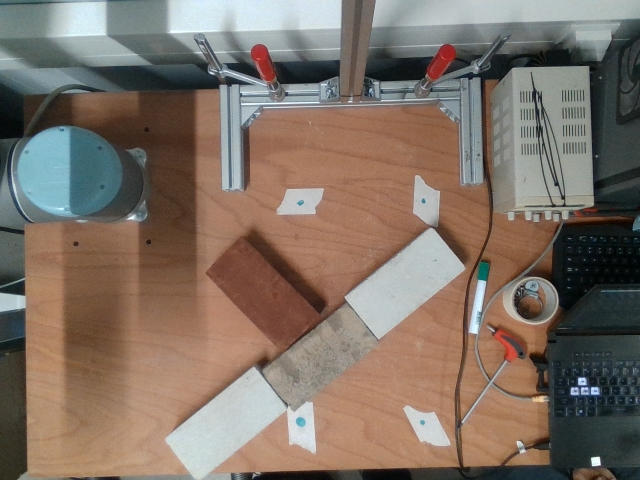brick: (346, 226, 466, 338), (167, 368, 287, 480), (204, 235, 319, 350), (262, 305, 376, 412)
